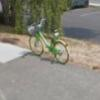bicycles: (27, 19, 70, 65)
